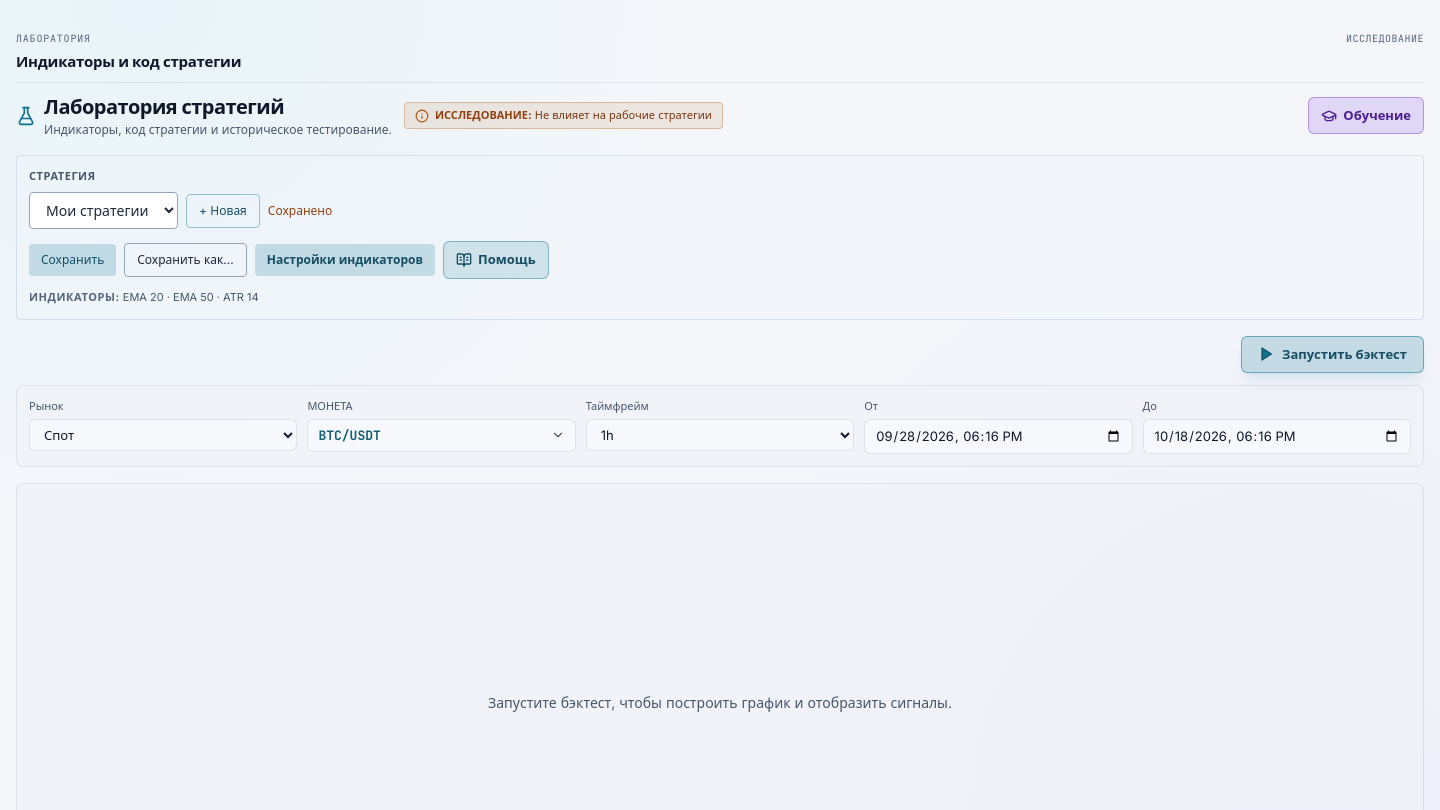
Test: Strategy Lab · «Настройки индикаторов» в верхней панели › «Помощь» доступна из верхней панели и открывает справку
What coordinates should you click on to do the following:
click the button "Помощь"
I would click on:
 (496, 260)
Its box is [443, 241, 549, 279].
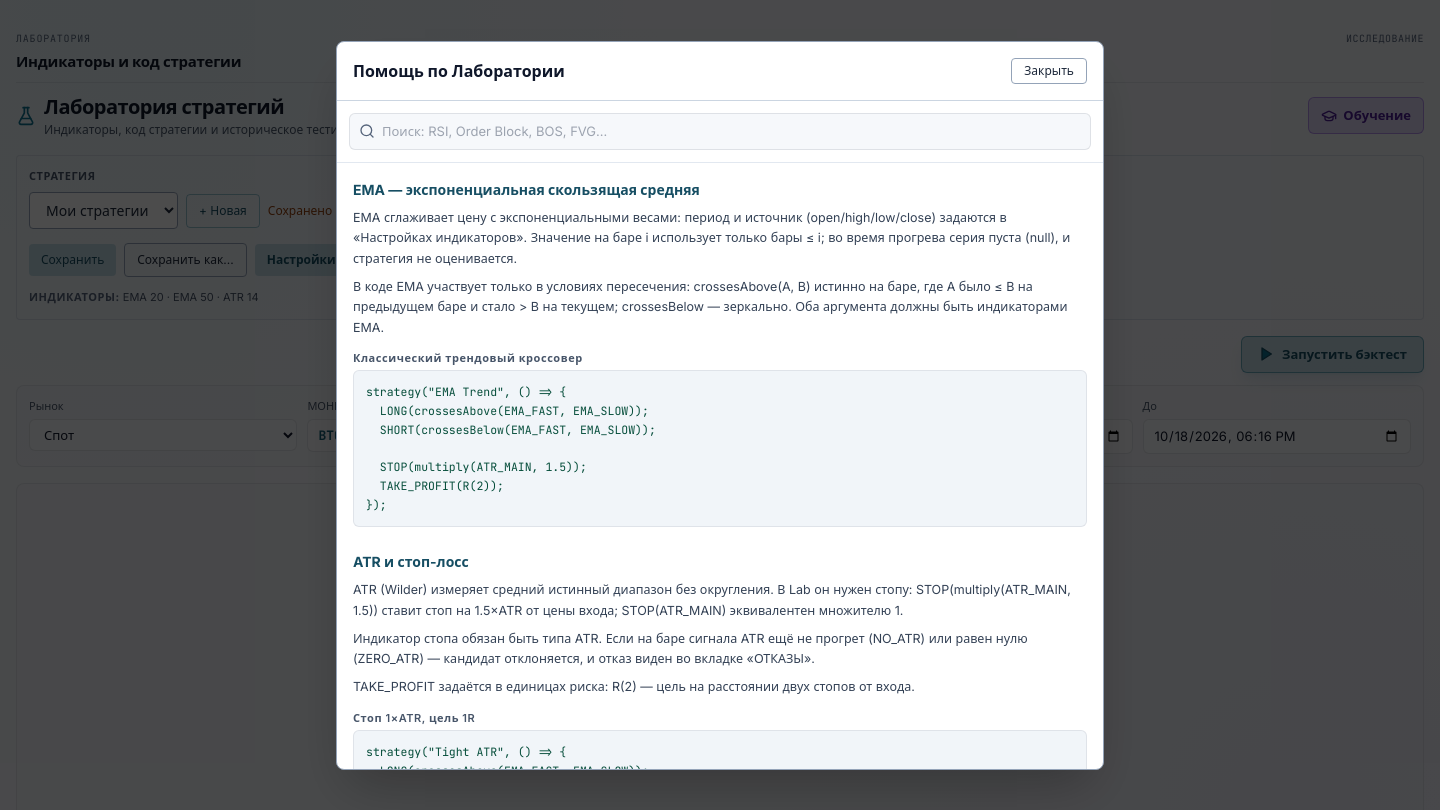
Result: the heading "Помощь по Лаборатории" is shown at [353, 58, 565, 82]
What coordinates should you click on to do the following:
click the button "Закрыть"
I would click on:
 (1049, 70)
Its box is [1011, 58, 1087, 84].
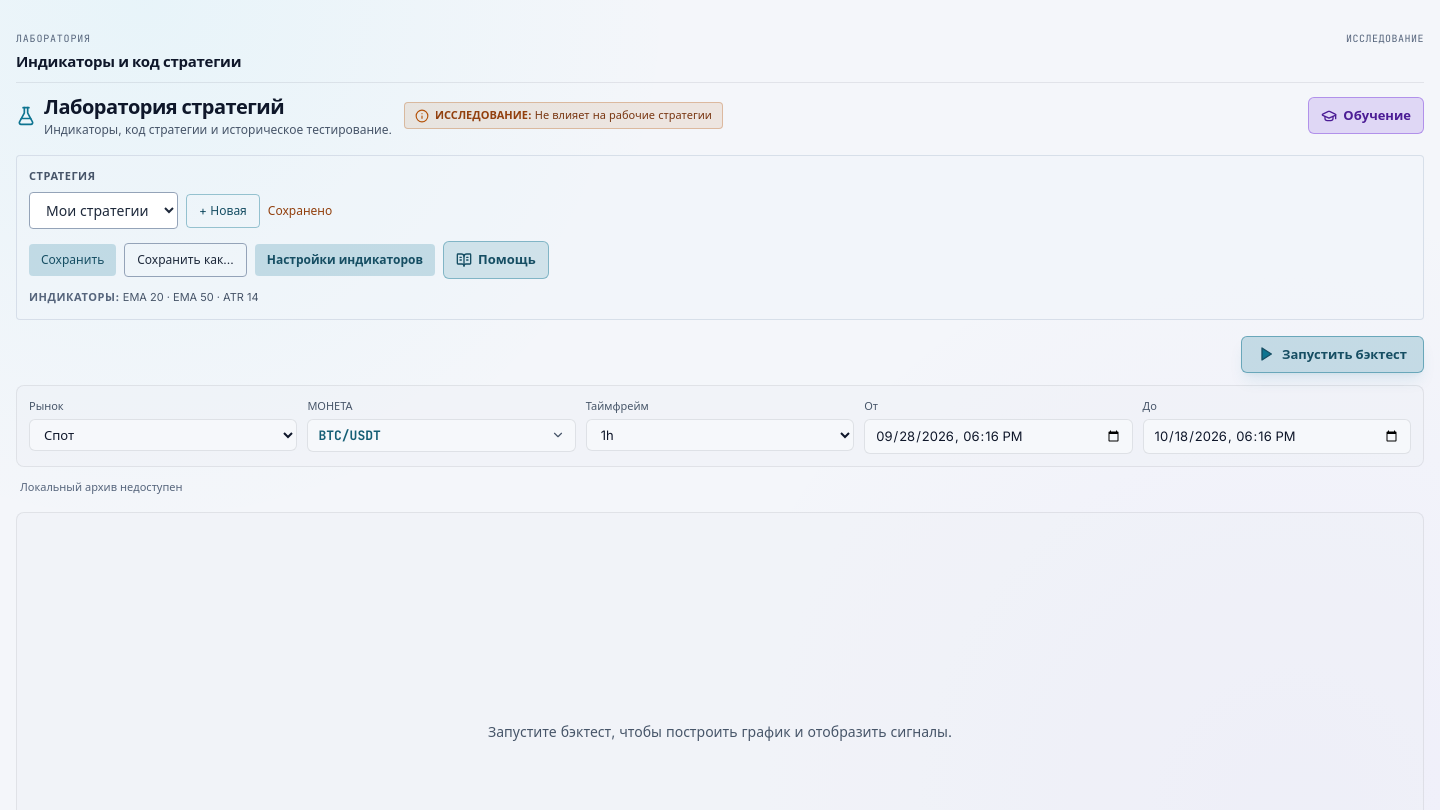
Result: the dialog is gone
